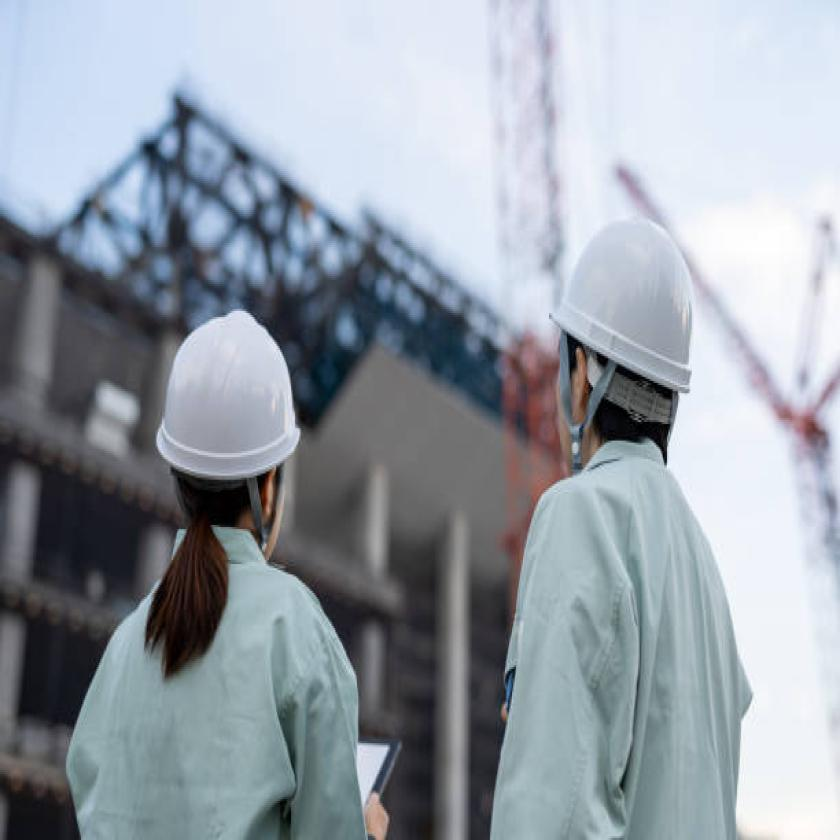Con_casco: (512, 187, 717, 484), (149, 294, 307, 574)
